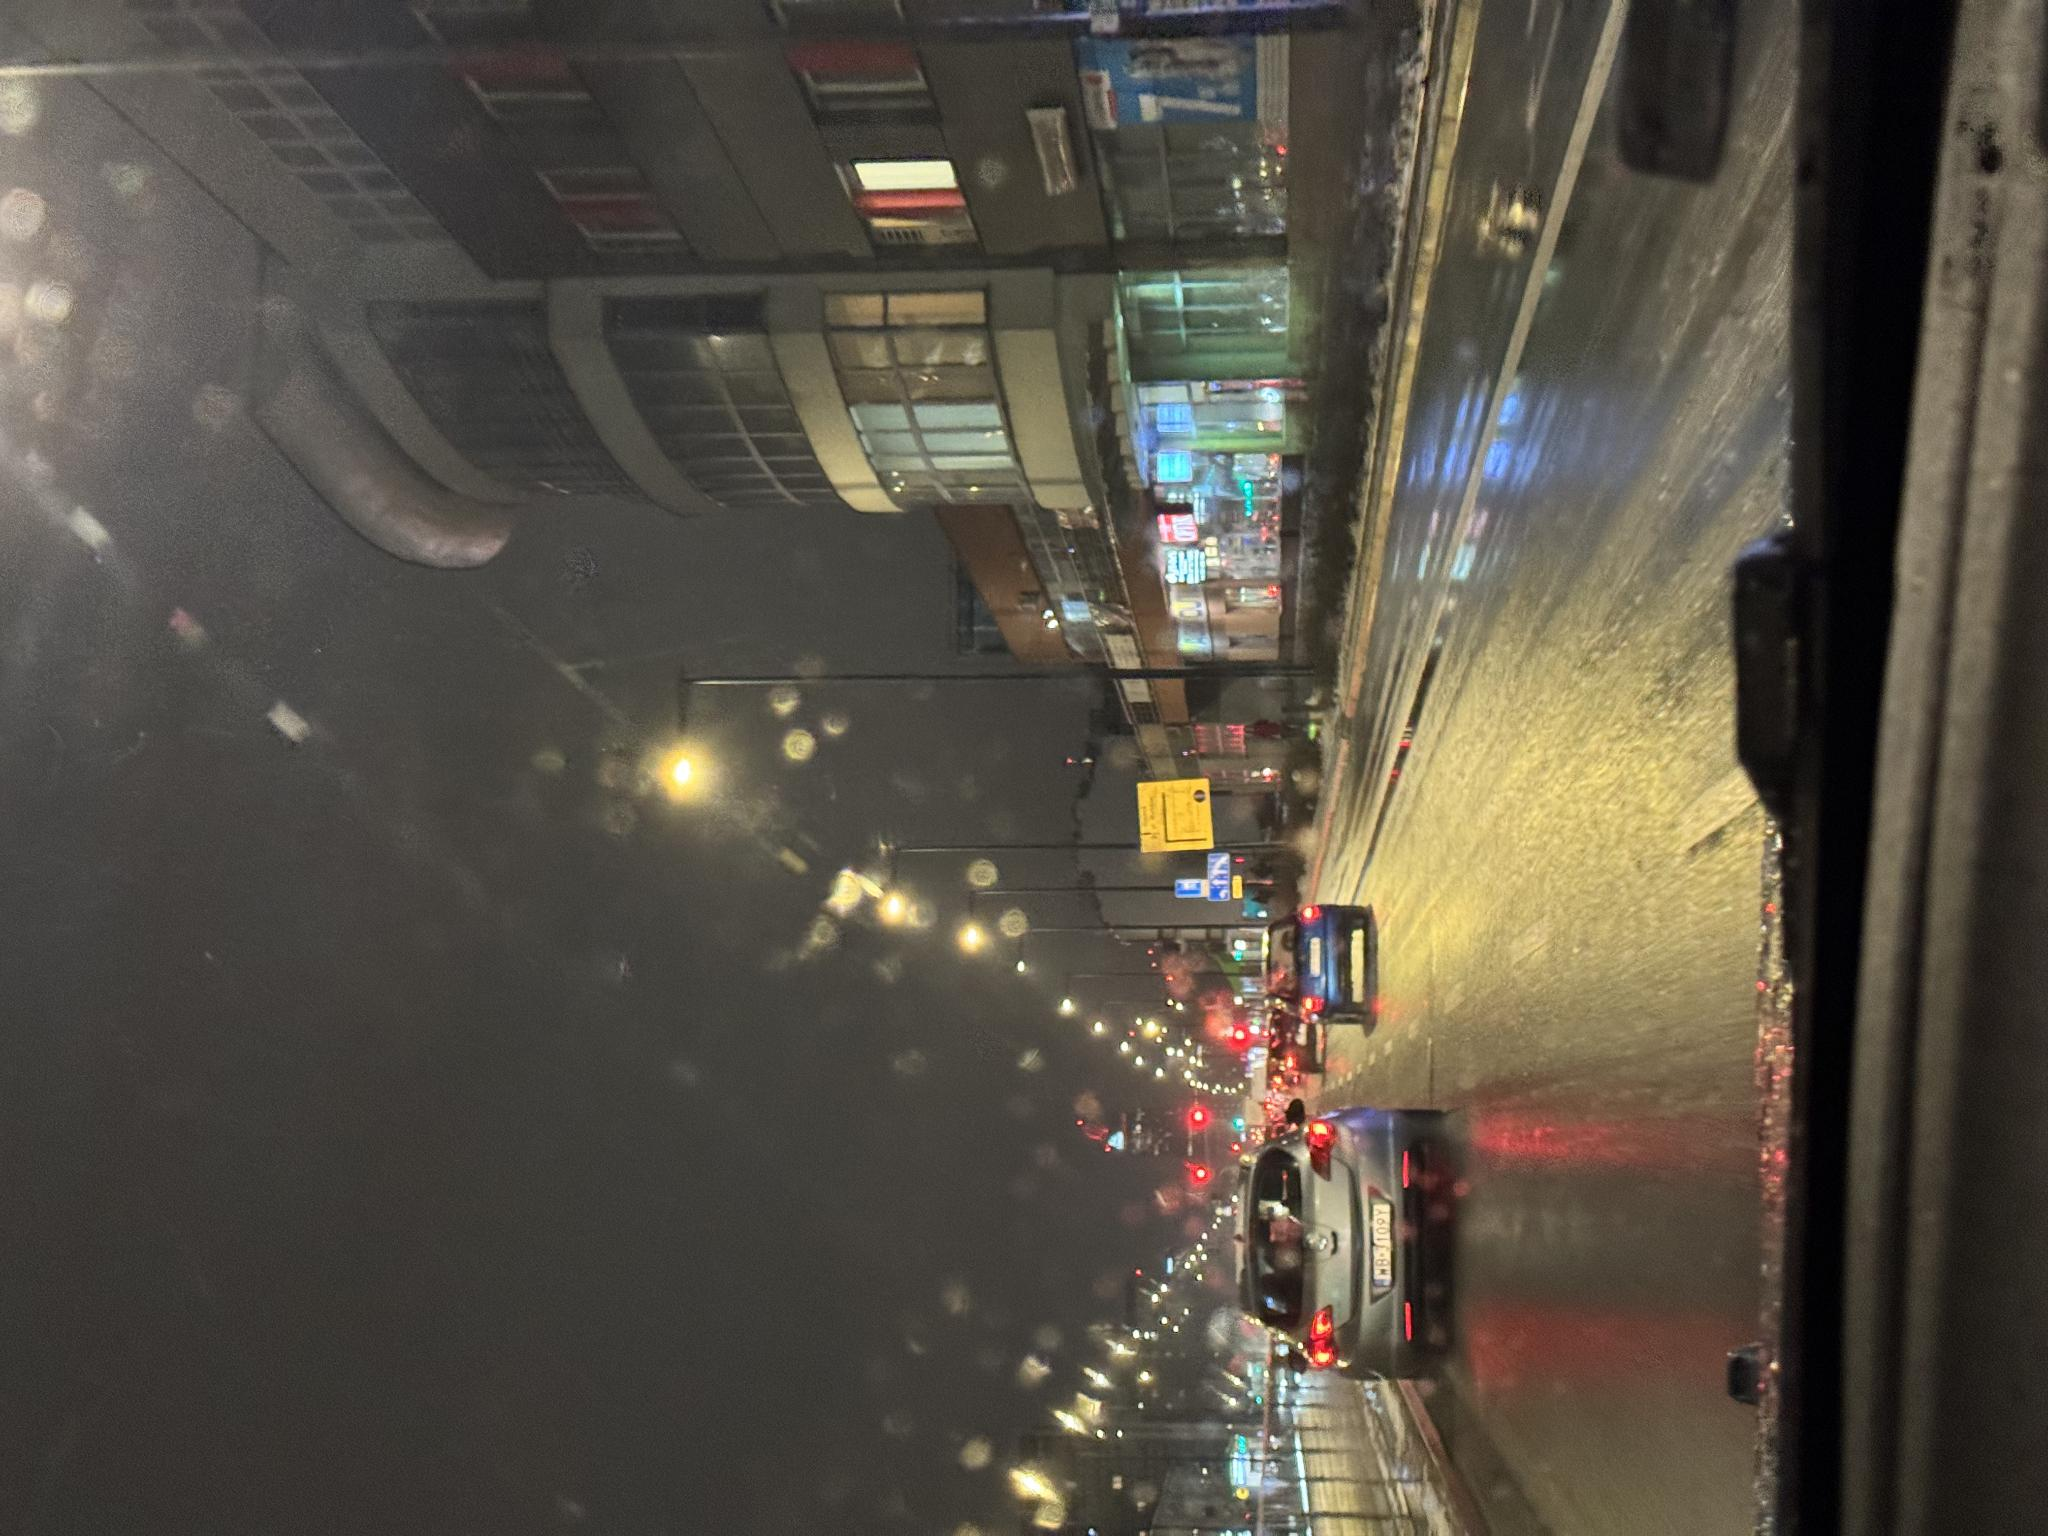other: (687, 1139, 755, 1210), (635, 1207, 684, 1229), (640, 1176, 656, 1200), (637, 1234, 660, 1242), (639, 1200, 656, 1207)
